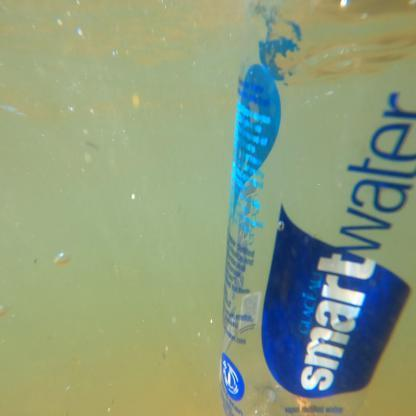Rác: (217, 2, 412, 402)
